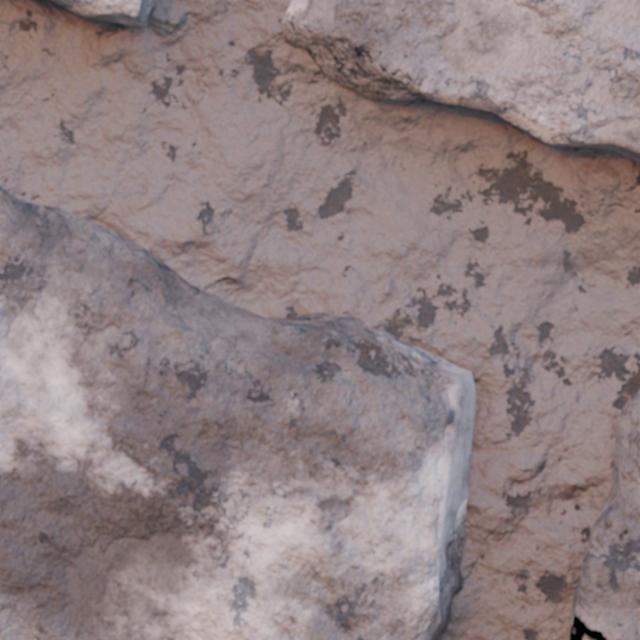crack: (0, 188, 475, 639), (281, 0, 639, 162), (570, 388, 639, 639), (51, 0, 155, 27)
